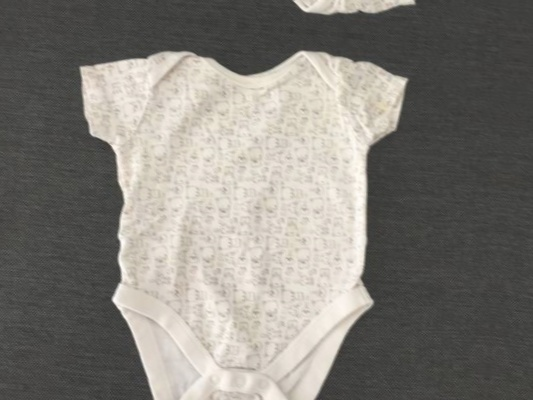Body: (50, 21, 425, 400), (85, 0, 461, 32), (15, 394, 390, 400)
